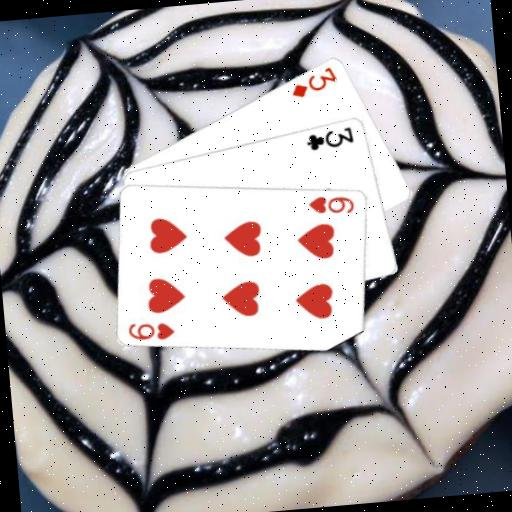3C: (303, 123, 357, 153)
3D: (287, 63, 341, 100)
6H: (305, 190, 357, 218), (125, 316, 177, 344)
